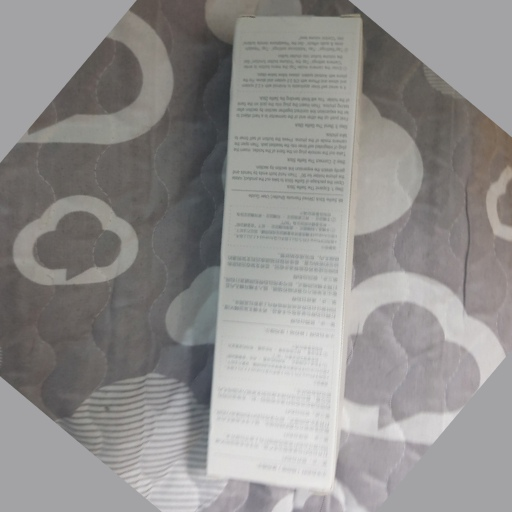Paper_0: (193, 5, 372, 497)
